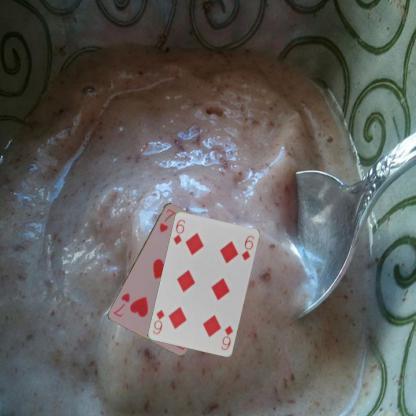6d: (218, 323, 235, 351), (171, 217, 187, 246)
7h: (156, 206, 177, 233)
